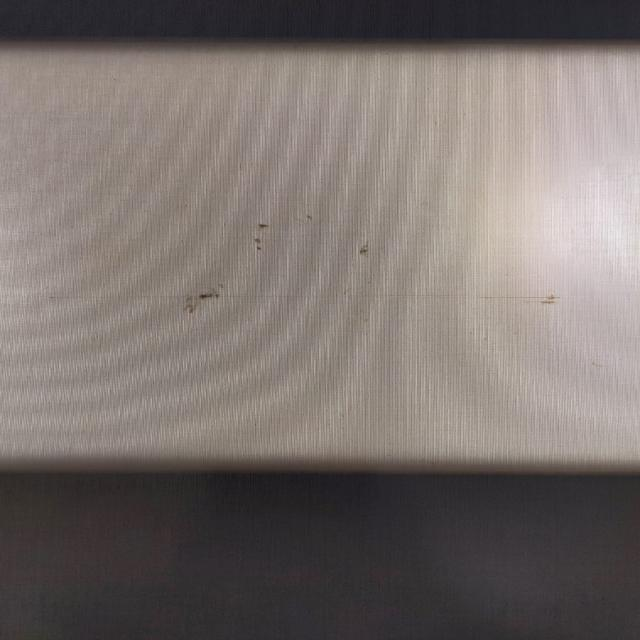stains: (87, 269, 617, 322)
